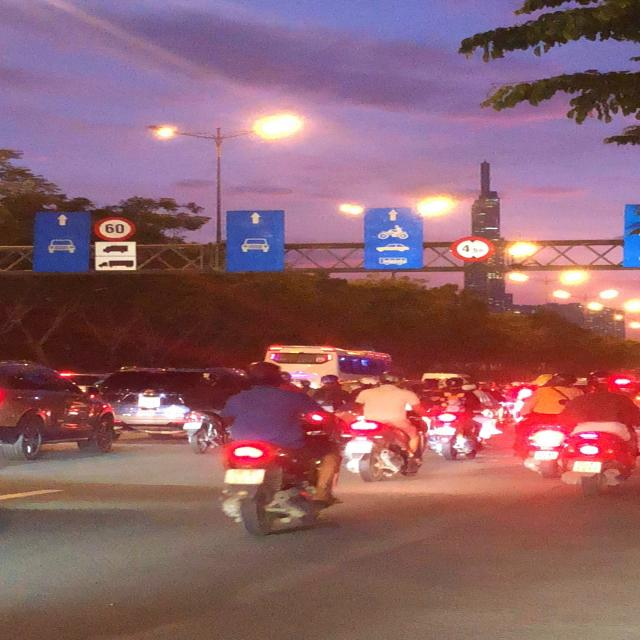Bien bao han che chieu cao: (447, 235, 495, 262)
Bien bao toc do toi da cho phep: (91, 216, 139, 241)
